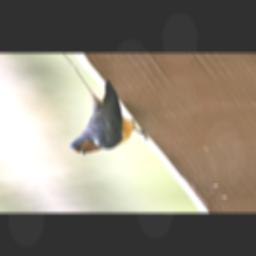Swallow: (13, 63, 159, 157)
